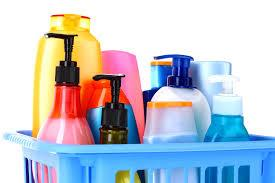Container for household chemicals: (26, 9, 275, 149)
